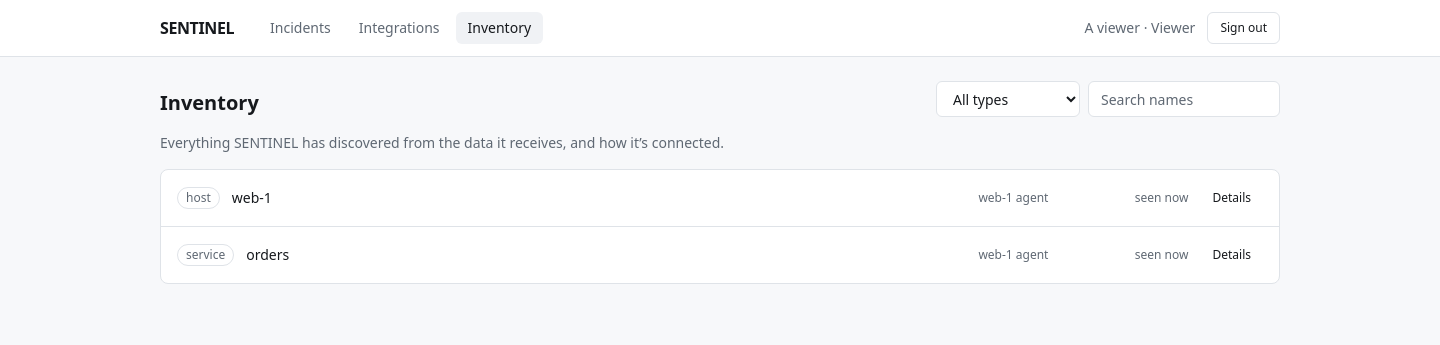
Test: integrations and inventory › the inventory shows entities, who reports them, and their relations
Expected: the text "web-1 agent" is shown 2 times, [978, 190, 1048, 206]; [978, 247, 1048, 263]
Click the button "Details" in the row of "orders" at [1232, 255], box [1200, 239, 1263, 271]
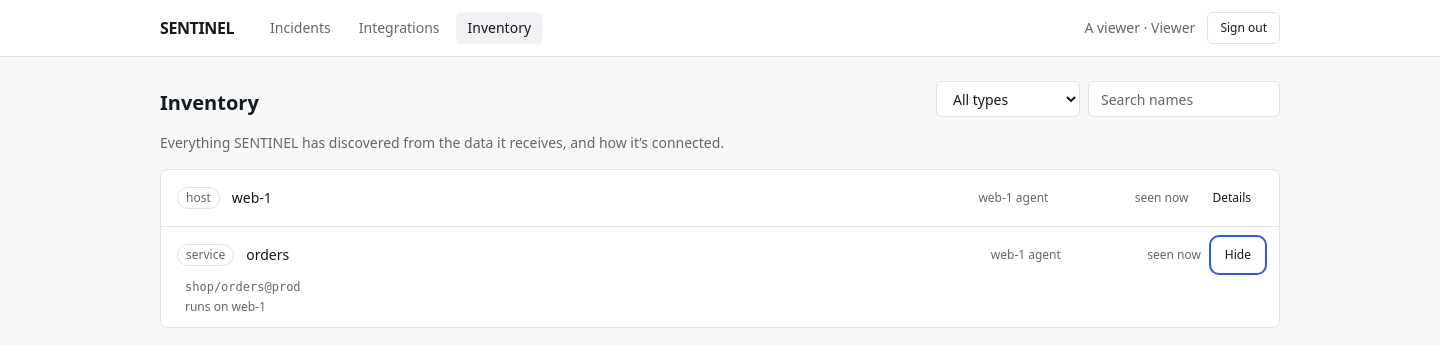
Expected: the list item "runs on web-1" is shown, [185, 298, 266, 315]
